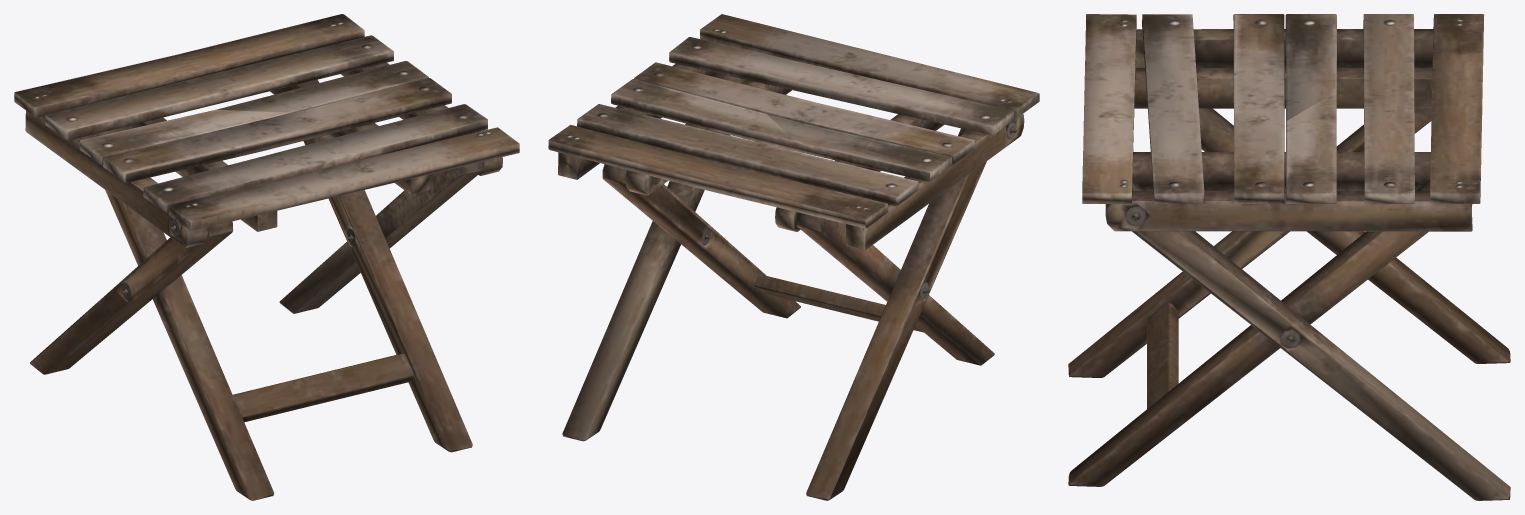
Rendered from ph-folding_wooden_stool.glb.
The picture shows the model from 3 angles, left to right: view 1: azimuth 30°, elevation 25°; view 2: azimuth 150°, elevation 25°; view 3: azimuth 270°, elevation 25°; orthographic projection. The views are drawn at different scales.
Parts seen in each view (by area): view 1: folding_wooden_stool; view 2: folding_wooden_stool; view 3: folding_wooden_stool.
Part boxes in pixels (box(x1,y1,x2,y2)): folding_wooden_stool: box(14, 14, 519, 500); folding_wooden_stool: box(548, 14, 1039, 500); folding_wooden_stool: box(1068, 14, 1510, 500).
Bounding box in the file's own units: 0.527 × 0.4402 × 0.5471.
Materials: 1 (1 with a texture image).
